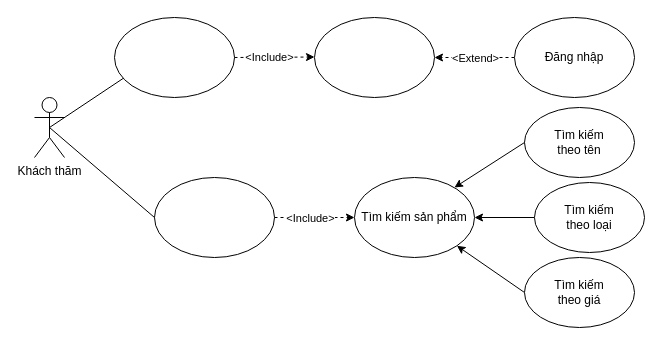
This 662x345 diagram has some shape labels left out. The box of each missing label's shape, as (x1, y1, x2, y2) in pixels:
Xem sản phẩm: (154, 176, 274, 258)
Điền thông tin cá nhân: (314, 16, 434, 98)
Đăng ký: (114, 16, 234, 98)
